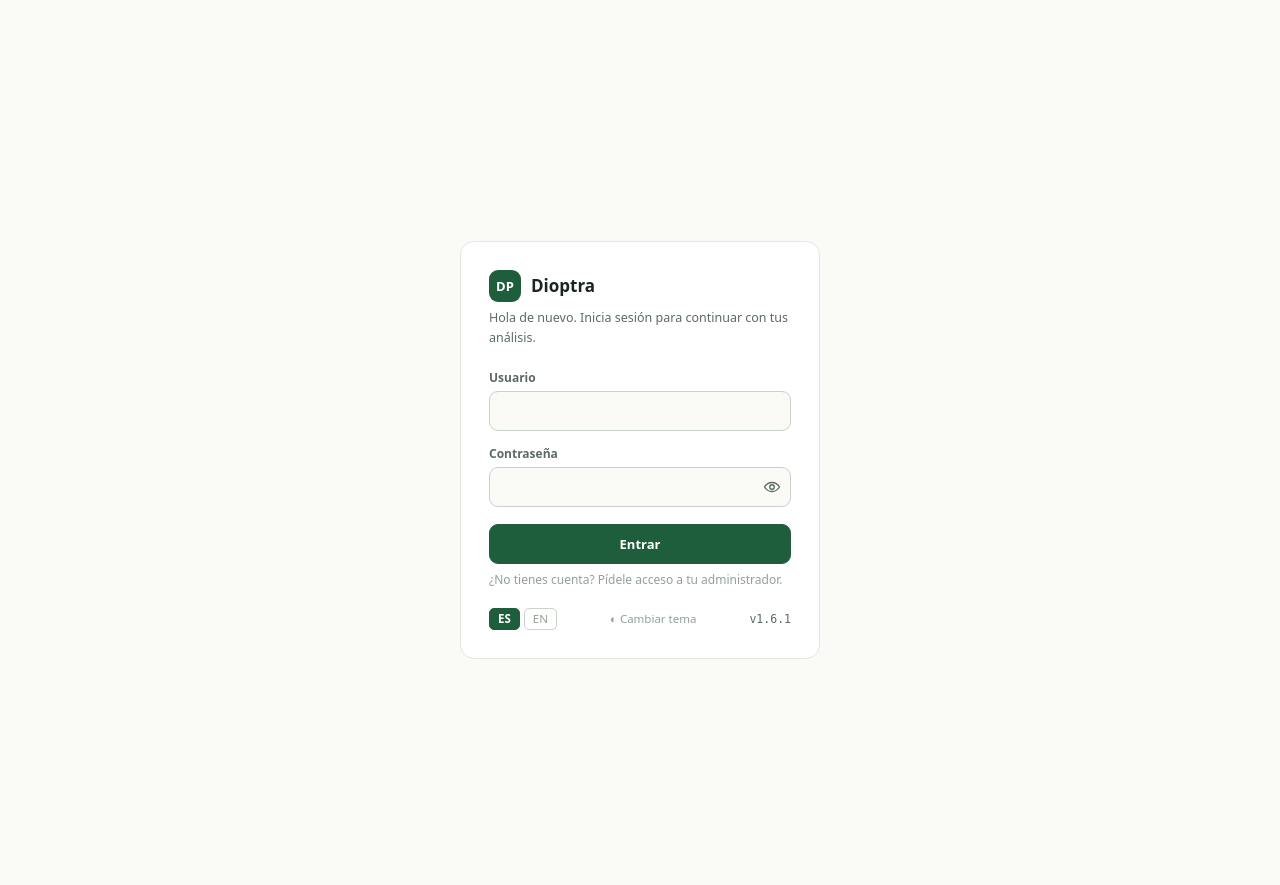
Test: report screen › lists the sections and previews the selected one as text
Type "mmarin" into the field labelled "Usuario" at (640, 411), box [489,391,791,431]
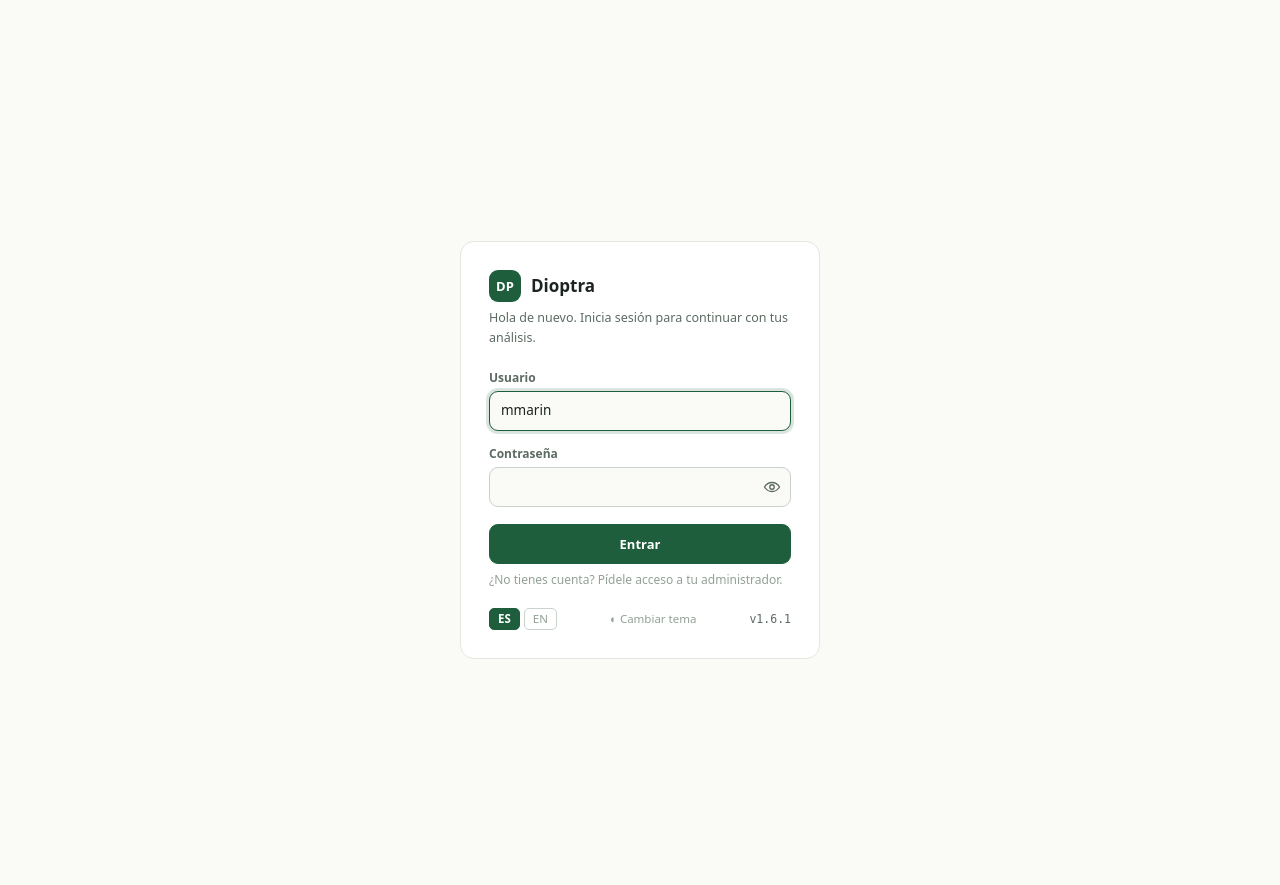
Type "correct-horse-battery-staple" into the password field labelled "Contraseña" at (640, 487), box [489,467,791,507]
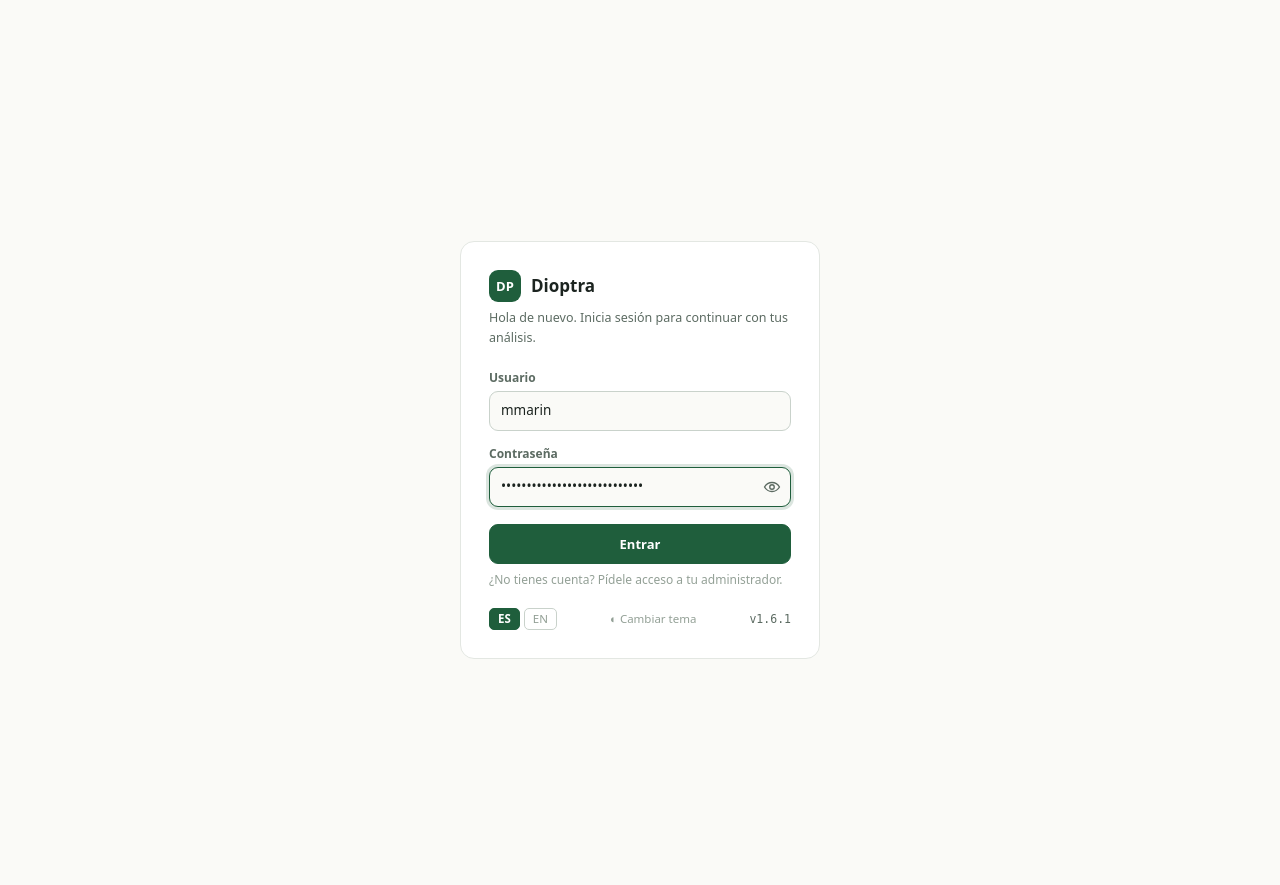
Click the button "Entrar" at (640, 544), box [489,524,791,564]
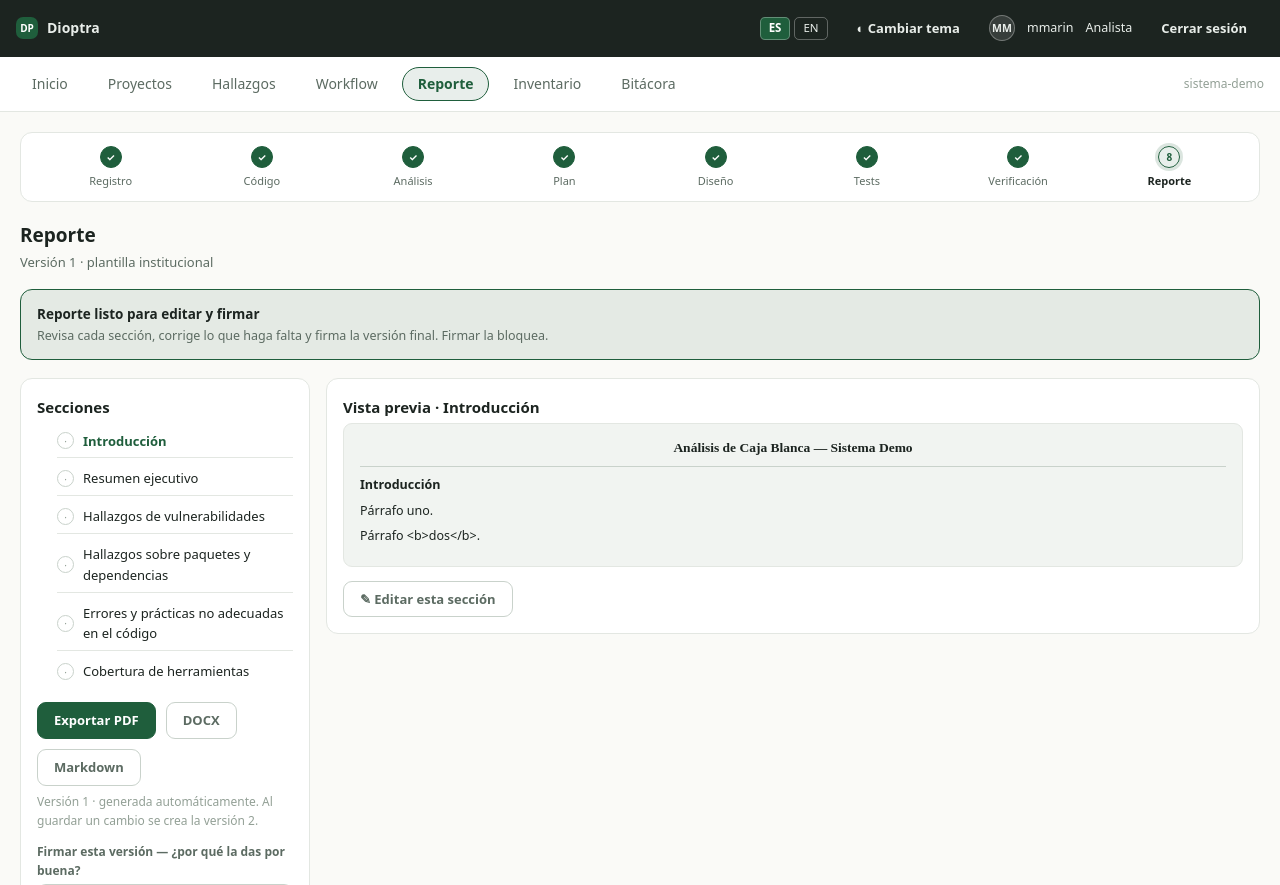
Expected: the text "Reporte listo para editar y firmar" is shown, [37,305,260,323]
Expected: the text "Versión 1 · generada automáticamente. Al guardar un cambio se crea la versión 2." is shown, [37,792,293,830]
Expected: the button "Introducción" is shown, [83,431,167,451]
